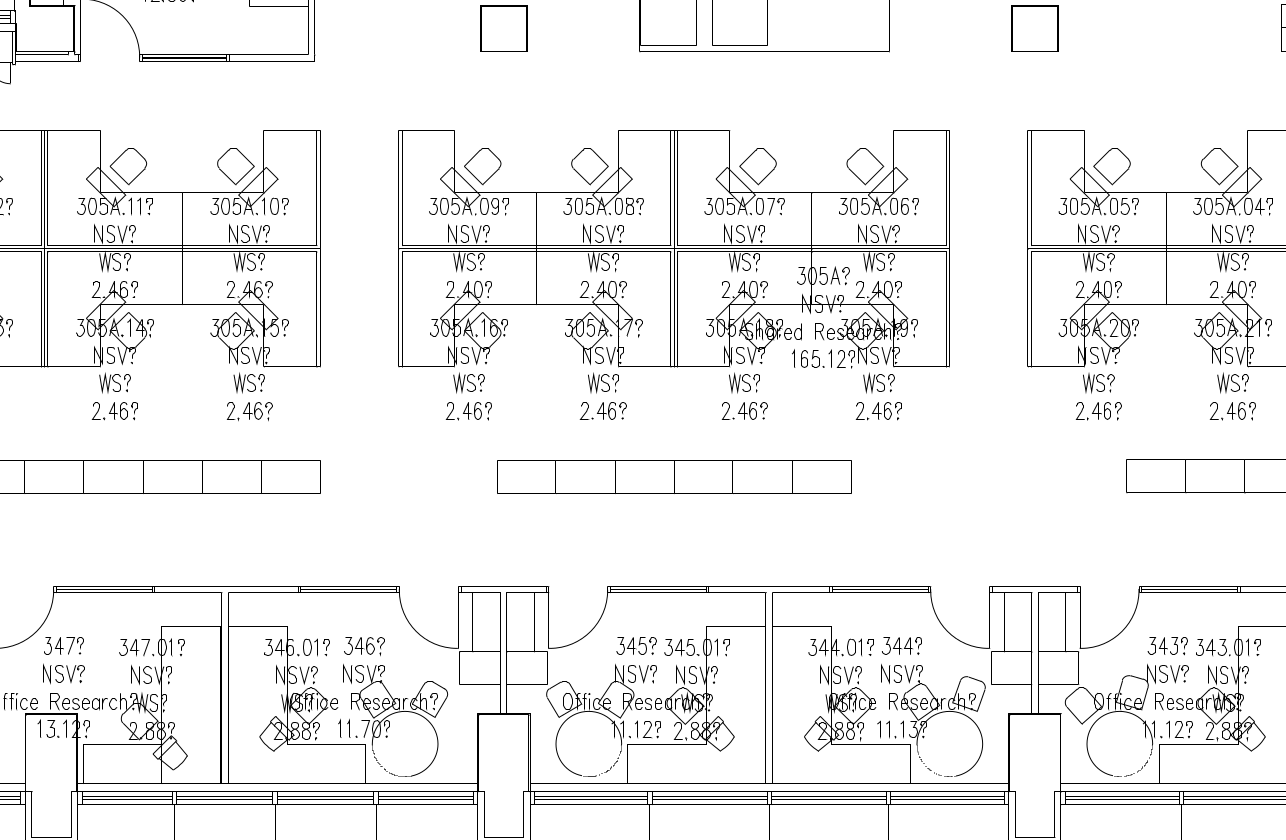door: (394, 588, 459, 652), (546, 589, 611, 653), (927, 588, 992, 652), (1078, 592, 1143, 656), (82, 1, 140, 66), (1, 593, 59, 649)
